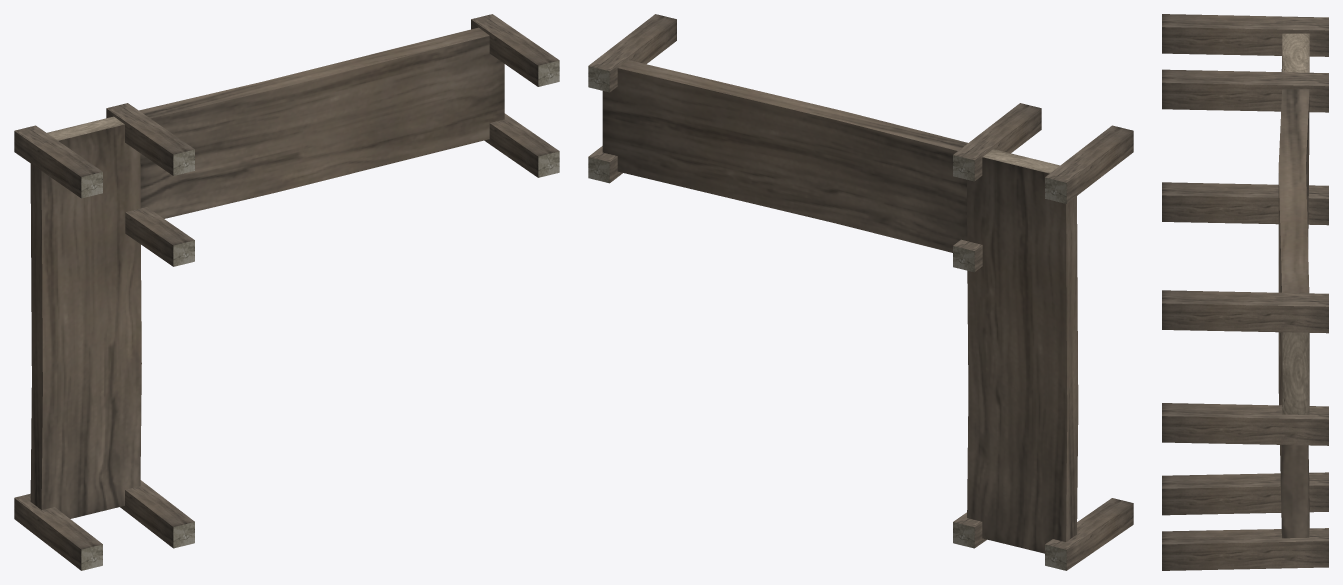
Rendered from Counter_Corner_L_A.fbx.
The picture shows the model from 3 angles, left to right: view 1: azimuth 30°, elevation 25°; view 2: azimuth 150°, elevation 25°; view 3: azimuth 270°, elevation 25°; orthographic projection. The views are drawn at different scales.
Visible parts, largest first — view 1: Counter_Corner_L_A; view 2: Counter_Corner_L_A; view 3: Counter_Corner_L_A.
Part boxes in pixels (x1,y1,x2,y2): Counter_Corner_L_A: (14,14,559,570); Counter_Corner_L_A: (588,14,1133,570); Counter_Corner_L_A: (1162,14,1328,570).
Size of the model in its own units: 4.29 by 3.37 by 1.04.
